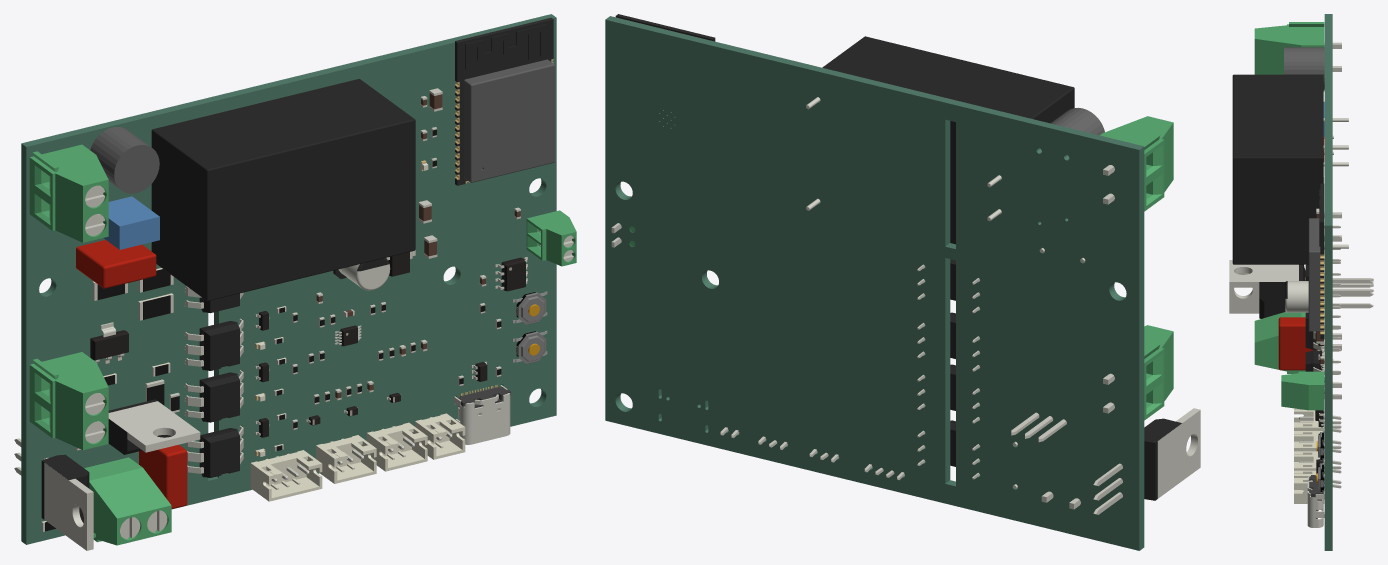
File: board.glb
3 renders of one model, left to right at view 1: azimuth 30°, elevation 25°; view 2: azimuth 150°, elevation 25°; view 3: azimuth 270°, elevation 25°, orthographic. The views are drawn at different scales.
Visible parts, largest first — view 1: =>[0:1:1:54], =>[0:1:1:23]_bdc87e, =>[0:1:1:33]_793b9c, =>[0:1:1:13]_2_471d86, =>[0:1:1:13]_a4f1f6, =>[0:1:1:13]_1_716ac2, =>[0:1:1:33]_424b4b, =>[0:1:1:11]_603e26, F1, =>[0:1:1:41]_1_c48b40, =>[0:1:1:11]_1_964c1e, =>[0:1:1:27]_d08114 (+18 smaller); view 2: =>[0:1:1:54], =>[0:1:1:23]_bdc87e, =>[0:1:1:11]_603e26, =>[0:1:1:13]_a4f1f6, =>[0:1:1:13]_2_471d86, =>[0:1:1:11]_ad1a66, F1; view 3: =>[0:1:1:23]_bdc87e, =>[0:1:1:54], =>[0:1:1:13]_a4f1f6, =>[0:1:1:11]_1_964c1e, =>[0:1:1:49]_75333e, =>[0:1:1:41]_516a29, =>[0:1:1:13]_1_716ac2, =>[0:1:1:33]_793b9c, F1, =>[0:1:1:11]_603e26, =>[0:1:1:47], =>[0:1:1:11]_1_2a5fbd (+14 smaller).
Boxes of the visible parts, x1,y1,x2,y2 form: =>[0:1:1:54]: [21, 14, 556, 544]; =>[0:1:1:23]_bdc87e: [151, 79, 415, 301]; =>[0:1:1:33]_793b9c: [464, 59, 554, 182]; =>[0:1:1:13]_2_471d86: [29, 352, 108, 450]; =>[0:1:1:13]_a4f1f6: [29, 144, 108, 242]; =>[0:1:1:13]_1_716ac2: [84, 457, 171, 545]; =>[0:1:1:33]_424b4b: [455, 17, 553, 185]; =>[0:1:1:11]_603e26: [14, 438, 93, 550]; F1: [90, 127, 159, 193]; =>[0:1:1:41]_1_c48b40: [76, 240, 156, 288]; =>[0:1:1:11]_1_964c1e: [108, 401, 200, 452]; =>[0:1:1:27]_d08114: [250, 450, 322, 501]; =>[0:1:1:54]: [605, 16, 1144, 550]; =>[0:1:1:23]_bdc87e: [822, 36, 1074, 244]; =>[0:1:1:11]_603e26: [1093, 408, 1200, 514]; =>[0:1:1:13]_a4f1f6: [1100, 116, 1173, 211]; =>[0:1:1:13]_2_471d86: [1144, 325, 1173, 420]; =>[0:1:1:11]_ad1a66: [1144, 418, 1181, 500]; F1: [1050, 107, 1104, 135]; =>[0:1:1:23]_bdc87e: [1232, 74, 1323, 264]; =>[0:1:1:54]: [1324, 14, 1332, 550]; =>[0:1:1:13]_a4f1f6: [1254, 22, 1324, 91]; =>[0:1:1:11]_1_964c1e: [1229, 260, 1373, 292]; =>[0:1:1:49]_75333e: [1281, 371, 1324, 410]; =>[0:1:1:41]_516a29: [1278, 317, 1324, 370]; =>[0:1:1:13]_1_716ac2: [1254, 312, 1305, 373]; =>[0:1:1:33]_793b9c: [1308, 218, 1320, 331]; F1: [1284, 47, 1324, 90]; =>[0:1:1:11]_603e26: [1229, 272, 1373, 313]; =>[0:1:1:47]: [1285, 281, 1308, 312]; =>[0:1:1:11]_1_2a5fbd: [1259, 264, 1305, 302].
Bounding box in the file's own units: 99.6 × 71.25 × 28.52.
